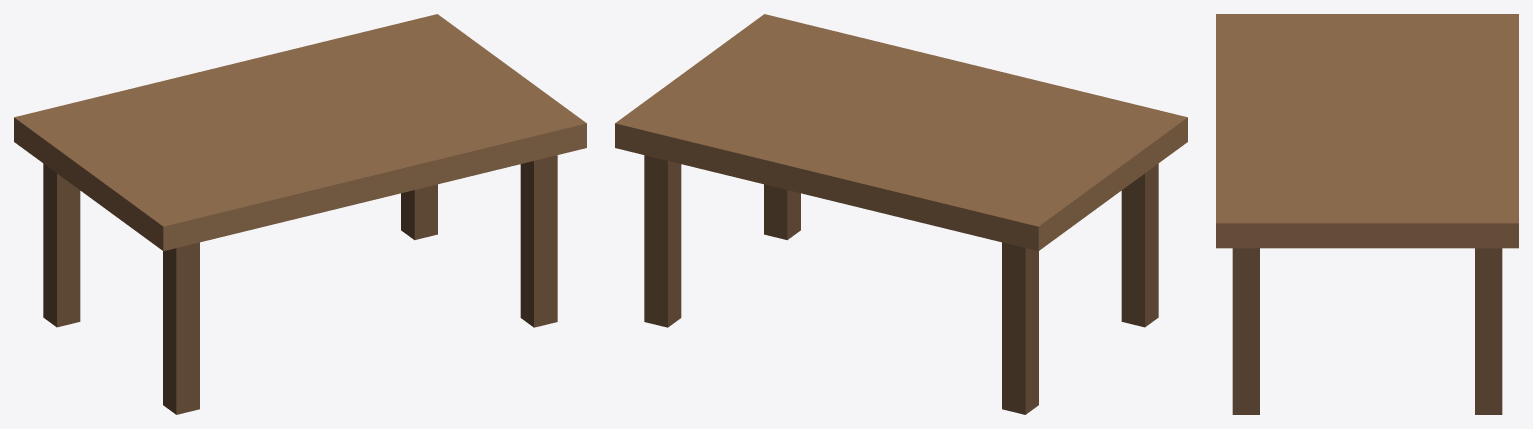
The model's file is coffee_table.glb.
3 views of the same model, side by side, from view 1: azimuth 30°, elevation 25°; view 2: azimuth 150°, elevation 25°; view 3: azimuth 270°, elevation 25° (orthographic).
Visible parts, largest first — view 1: furniture; view 2: furniture; view 3: furniture.
Part boxes in pixels (<box>): furniture: <box>14,14,586,414</box>; furniture: <box>615,14,1187,414</box>; furniture: <box>1216,14,1518,414</box>.
Size of the model in its own units: 0.9 by 0.405 by 0.55.
